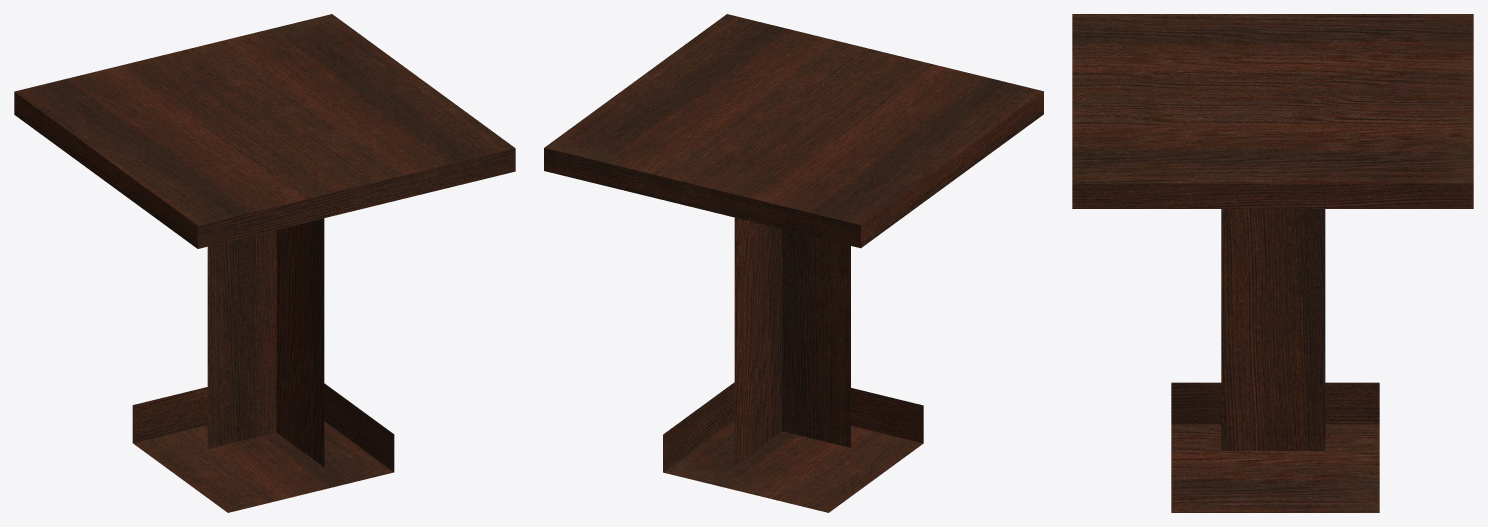
File: kwadratowyStolik.fbx
The picture shows the model from 3 angles, left to right: view 1: azimuth 30°, elevation 25°; view 2: azimuth 150°, elevation 25°; view 3: azimuth 270°, elevation 25°; orthographic projection. The views are drawn at different scales.
Visible parts, largest first — view 1: Cube; view 2: Cube; view 3: Cube.
Part boxes in pixels (box(x1,y1,x2,y2)): Cube: box(14, 14, 515, 512); Cube: box(544, 14, 1043, 512); Cube: box(1072, 14, 1473, 512).
Bounding box in the file's own units: 2 × 2.04 × 2.
1 material, 1 textured.
